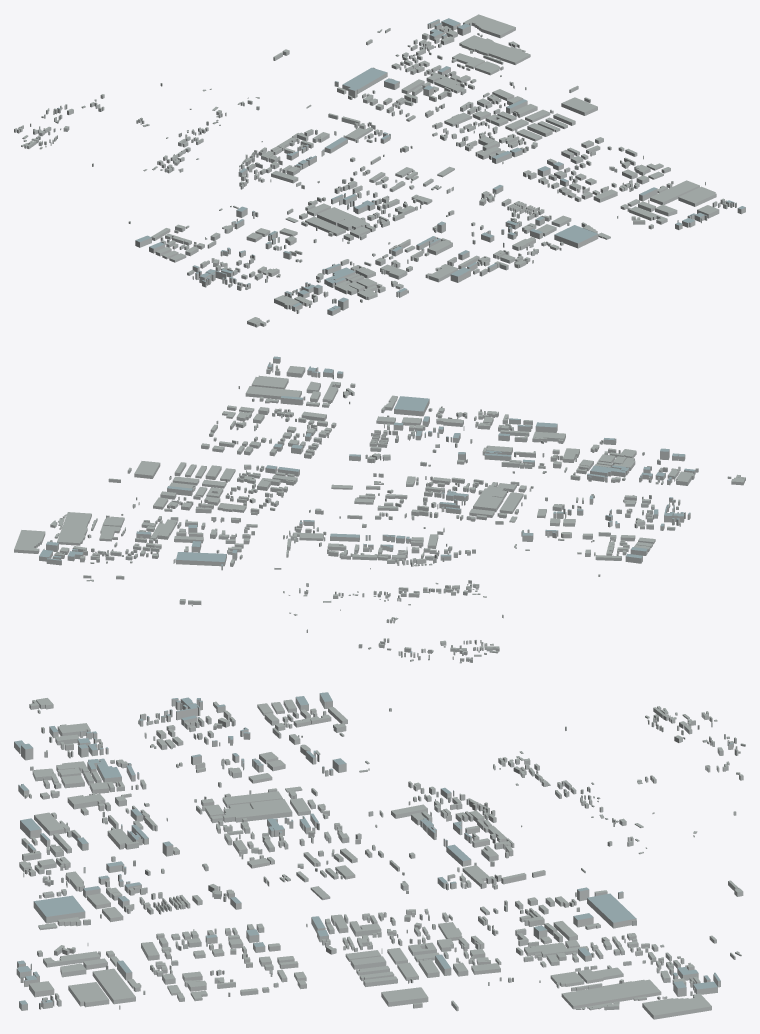
The model's file is far.glb.
3 renders of one model, top to bottom at view 1: azimuth 30°, elevation 25°; view 2: azimuth 150°, elevation 25°; view 3: azimuth 270°, elevation 25°, orthographic. The views are drawn at different scales.
Bounding box in the file's own units: 2199 × 35.45 × 2123.
